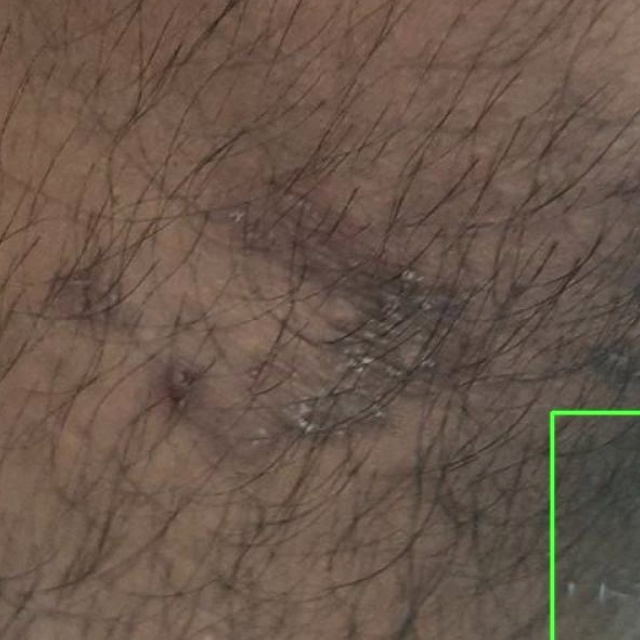Tinea Corporis: (552, 412, 639, 639)
